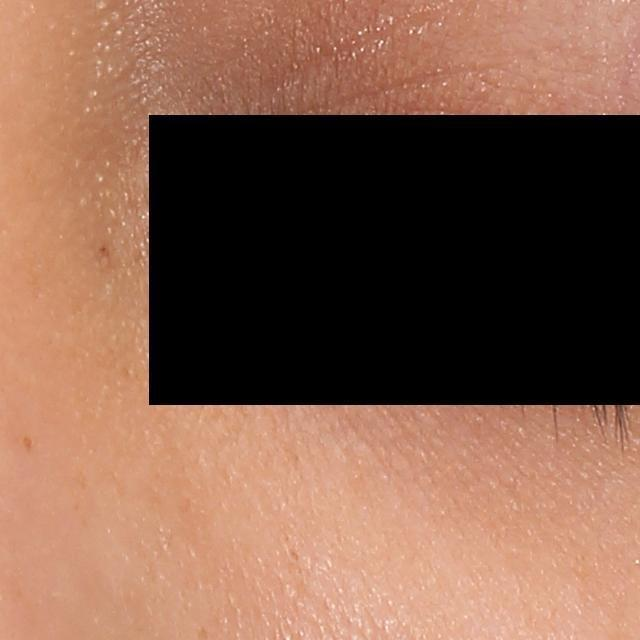nevus: (96, 241, 112, 257)
